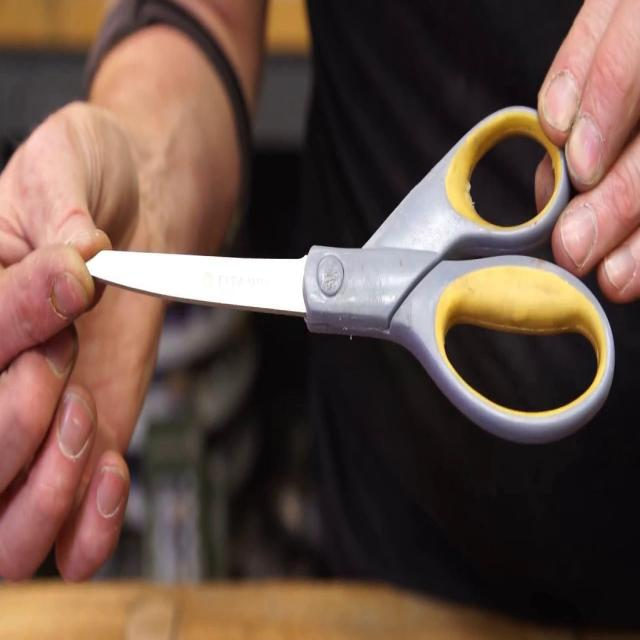scissor: (86, 105, 615, 439)
